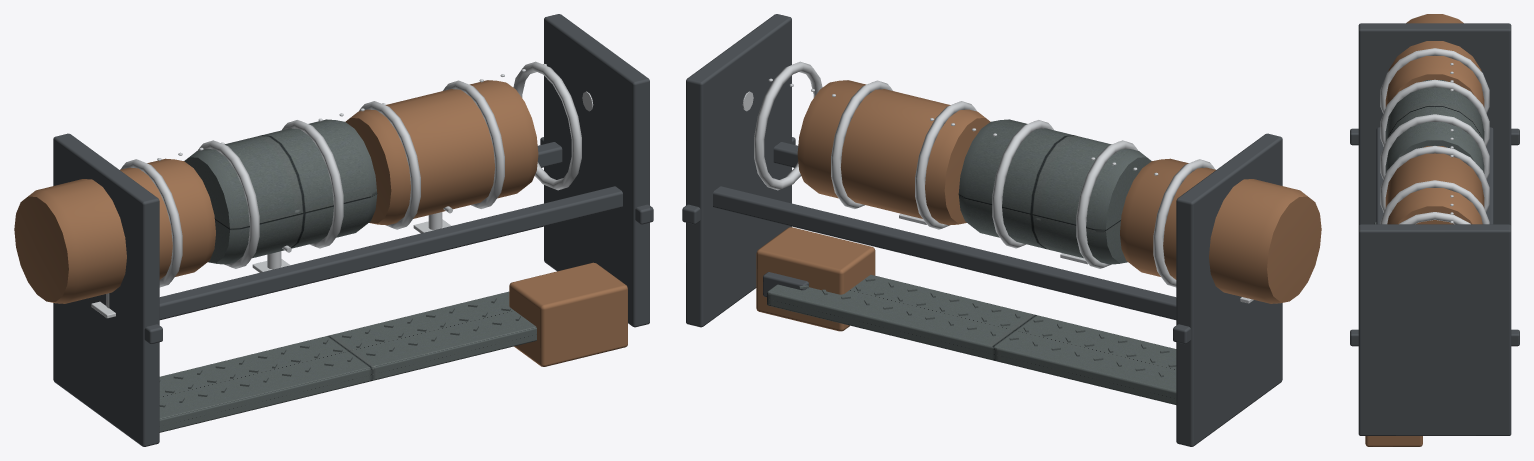
File: fuel-drum-rack.glb
3 renders of one model, left to right at view 1: azimuth 30°, elevation 25°; view 2: azimuth 150°, elevation 25°; view 3: azimuth 270°, elevation 25°, orthographic. The views are drawn at different scales.
Visible parts, largest first — view 1: fuel-drum-rack; view 2: fuel-drum-rack; view 3: fuel-drum-rack.
Boxes of the visible parts, <box> form: fuel-drum-rack: <box>14,14,653,446</box>; fuel-drum-rack: <box>682,14,1321,446</box>; fuel-drum-rack: <box>1350,14,1519,446</box>.
Bounding box in the file's own units: 3.23 × 1.46 × 0.9998.
4 materials, 1 textured.
